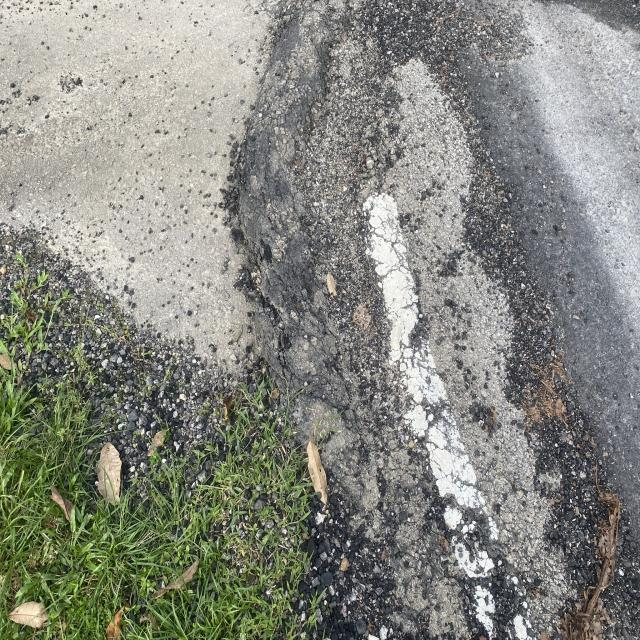pothole: (463, 224, 606, 632), (213, 58, 333, 386)
